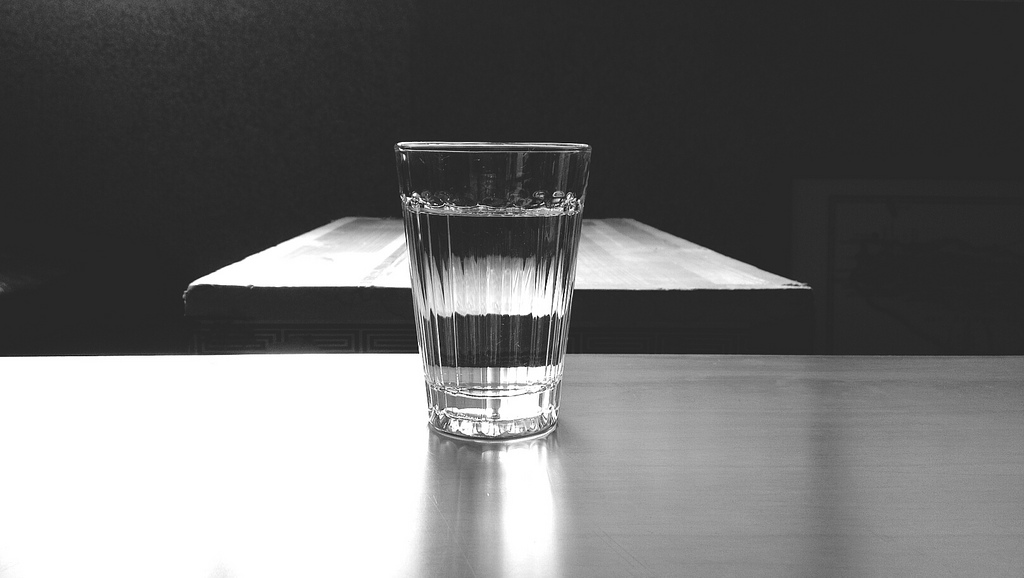glass of water: (393, 132, 595, 449)
